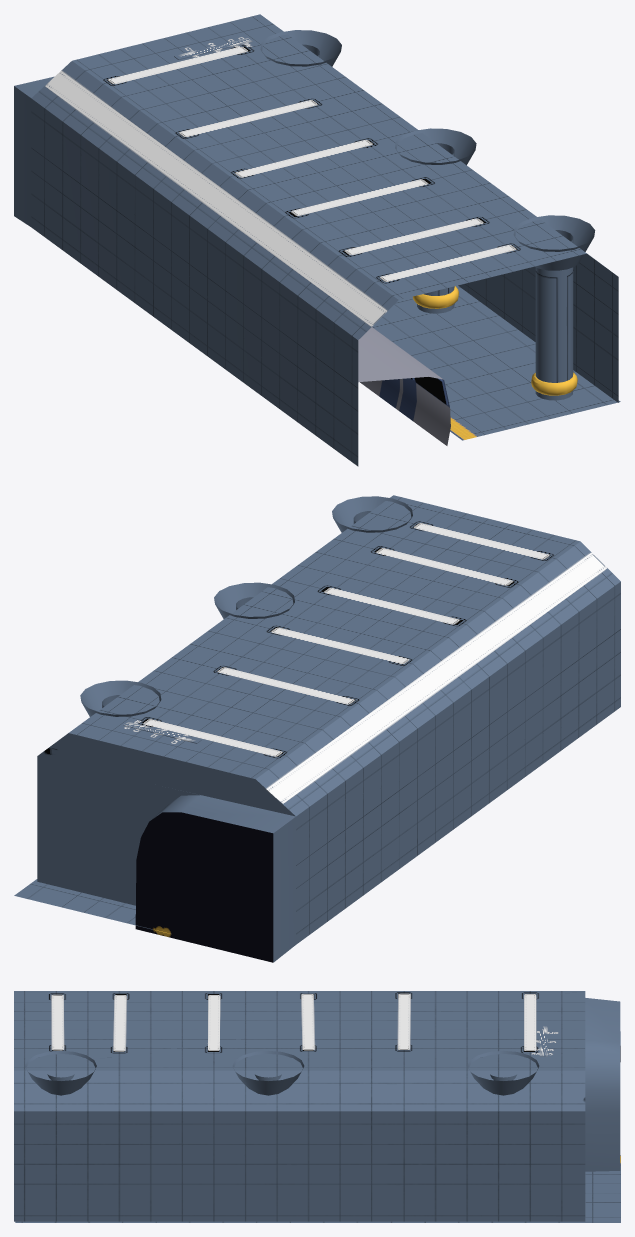
The picture shows the model from 3 angles, top to bottom: view 1: azimuth 30°, elevation 25°; view 2: azimuth 150°, elevation 25°; view 3: azimuth 270°, elevation 25°; orthographic projection. The views are drawn at different scales.
Parts seen in each view (by area): view 1: 4 bg.004, 4 bg.003, 4 bg.001, 4 bg.006, 4 bg.007, 4 bg.011; view 2: 4 bg.004, 4 bg.003, 4 bg.001, 4 bg.011, 4 bg.007; view 3: 4 bg.004, 4 bg.003, 4 bg.001, 4 bg.007, 4 bg.011.
Part boxes in pixels (box(x1,y1,x2,y2)): 4 bg.004: box(14, 14, 618, 466); 4 bg.003: box(372, 285, 620, 440); 4 bg.001: box(513, 215, 595, 400); 4 bg.006: box(358, 327, 450, 445); 4 bg.007: box(395, 128, 476, 313); 4 bg.011: box(260, 30, 341, 66); 4 bg.004: box(37, 495, 620, 962); 4 bg.003: box(14, 879, 170, 933); 4 bg.001: box(332, 496, 412, 532); 4 bg.011: box(80, 680, 161, 716); 4 bg.007: box(214, 582, 294, 618); 4 bg.004: box(14, 991, 620, 1221); 4 bg.003: box(15, 1155, 620, 1222); 4 bg.001: box(25, 1050, 96, 1095); 4 bg.007: box(232, 1050, 304, 1095); 4 bg.011: box(467, 1050, 539, 1095).
Size of the model in its own units: 2753 by 1717 by 6286.
1 material, 1 textured.
